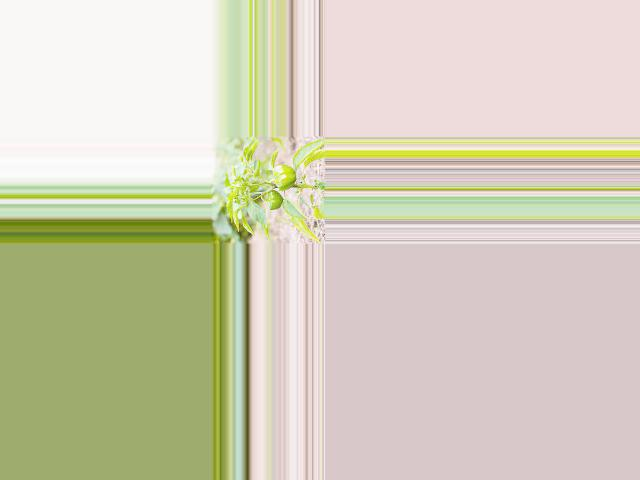bell_pepper: (264, 190, 284, 211)
